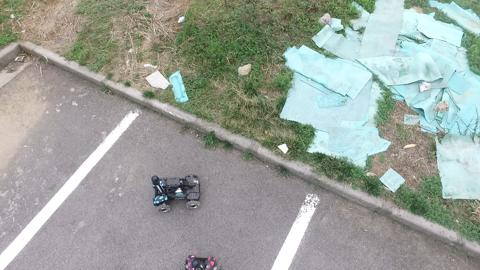chariot: (148, 170, 209, 216)
